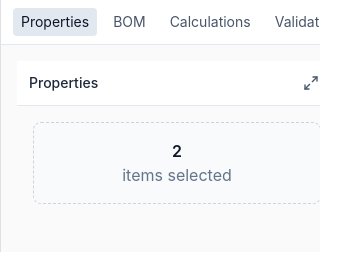
Test: Canvas RightSidebar - Floating Inspector Integration › clicking Float button updates store and shows placeholder message
This screenshot has width=342, height=269.
Click the button at (311, 83), box [297,69,325,97]
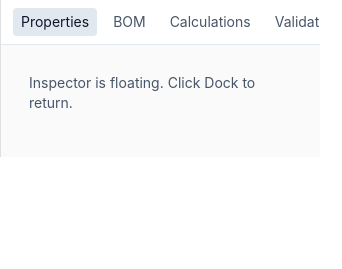
Now the text "Inspector is floating. Click Dock to return." is shown, box [29,74,255,111]
